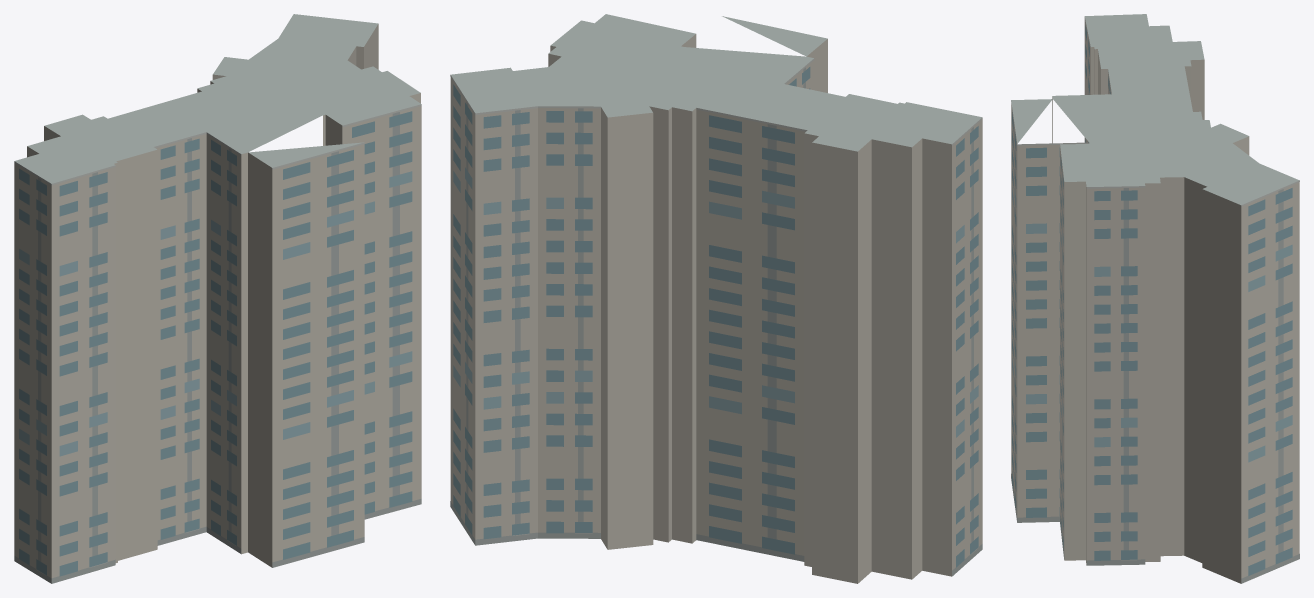
Rendered from residential-42cbdf94-5304-4962-8de3-37d190dfbae7.glb.
The picture shows the model from 3 angles, left to right: view 1: azimuth 30°, elevation 25°; view 2: azimuth 150°, elevation 25°; view 3: azimuth 270°, elevation 25°; orthographic projection. The views are drawn at different scales.
Visible parts, largest first — view 1: residential-42cbdf94-5304-4962-8de3-37d190dfbae7.tmp; view 2: residential-42cbdf94-5304-4962-8de3-37d190dfbae7.tmp; view 3: residential-42cbdf94-5304-4962-8de3-37d190dfbae7.tmp.
Boxes of the visible parts, bbox=[...] form: residential-42cbdf94-5304-4962-8de3-37d190dfbae7.tmp: bbox=[14, 14, 421, 583]; residential-42cbdf94-5304-4962-8de3-37d190dfbae7.tmp: bbox=[450, 14, 982, 583]; residential-42cbdf94-5304-4962-8de3-37d190dfbae7.tmp: bbox=[1011, 14, 1299, 583].
Size of the model in its own units: 61.77 by 57 by 39.38.
